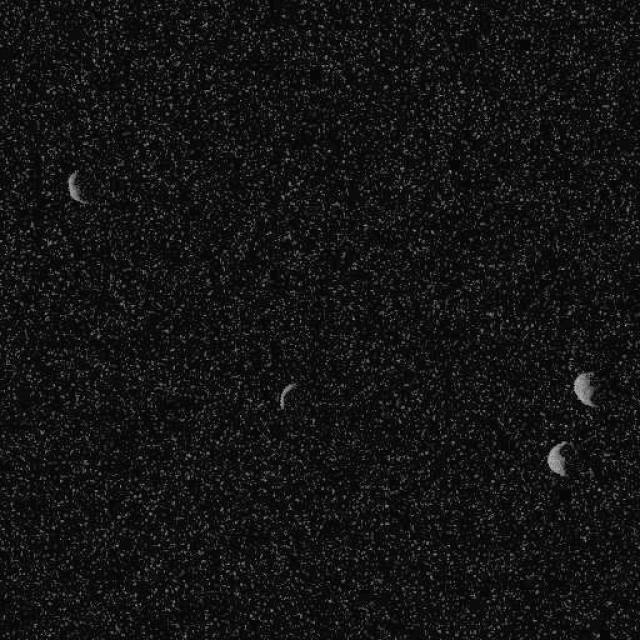D2: (571, 370, 599, 408), (545, 440, 573, 478), (65, 169, 89, 205), (278, 381, 296, 409)
